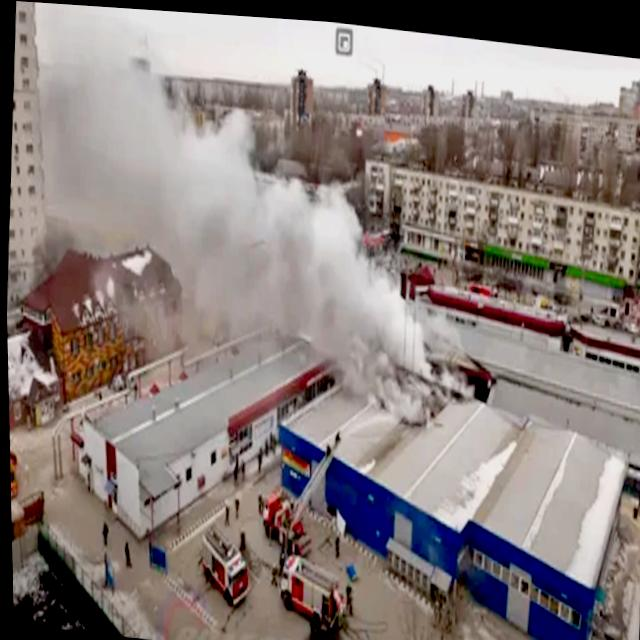Smoke: (40, 56, 488, 421)
